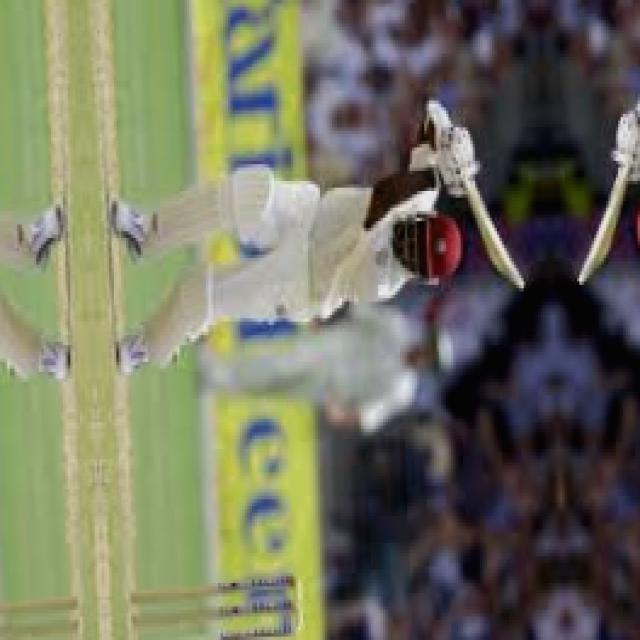bat: (444, 158, 537, 311)
